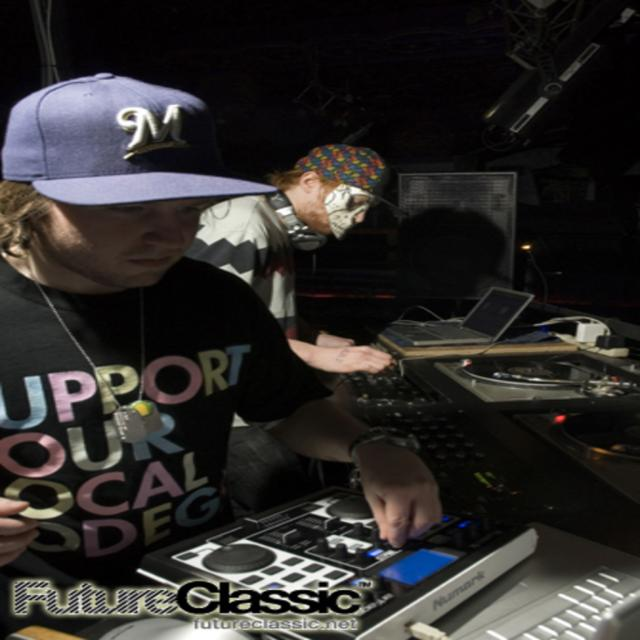Hat: (0, 70, 283, 204)
